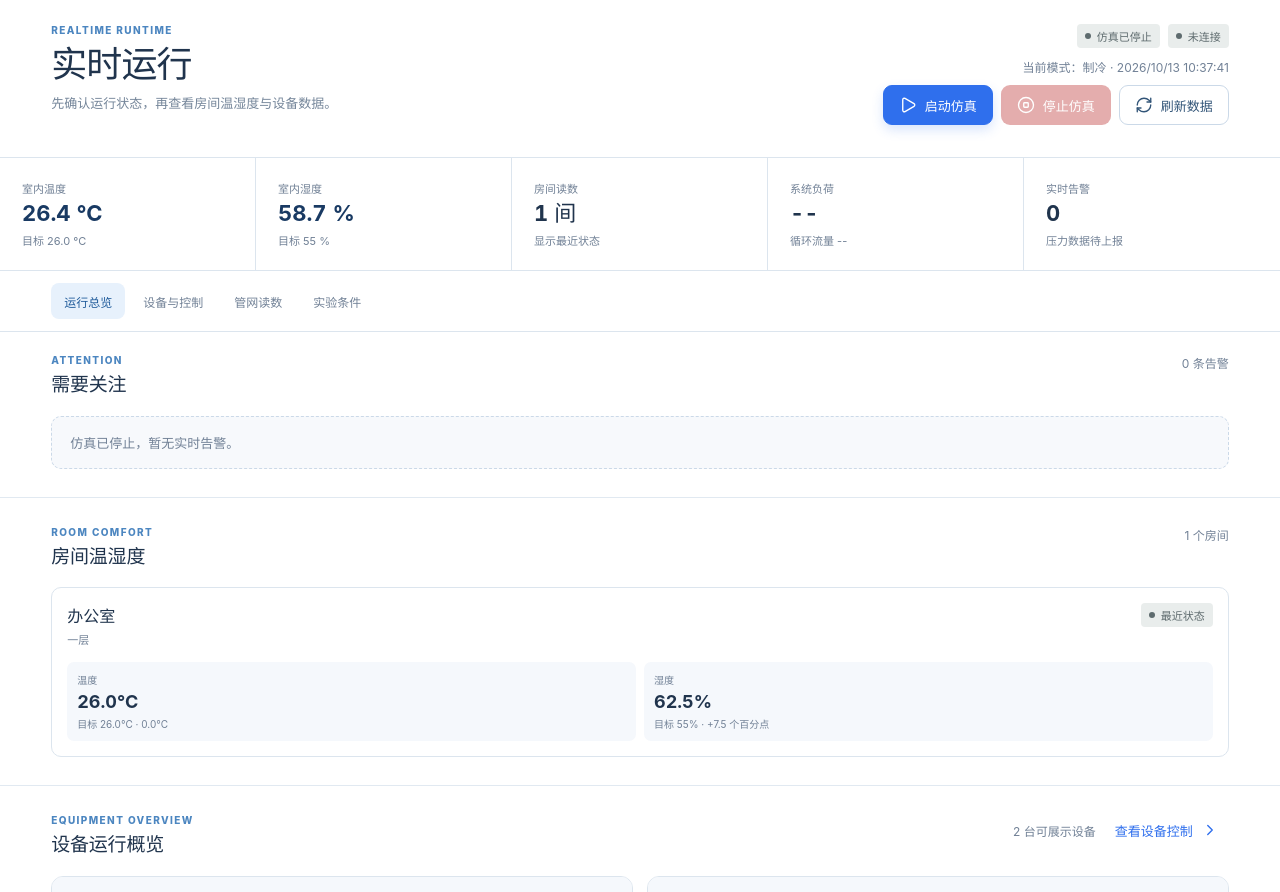
Test: runtime device controls › masks non-finite runtime values in the property panel
Click the tab with id "runtime-tab-devices": click(173, 301) [130,283,216,319]
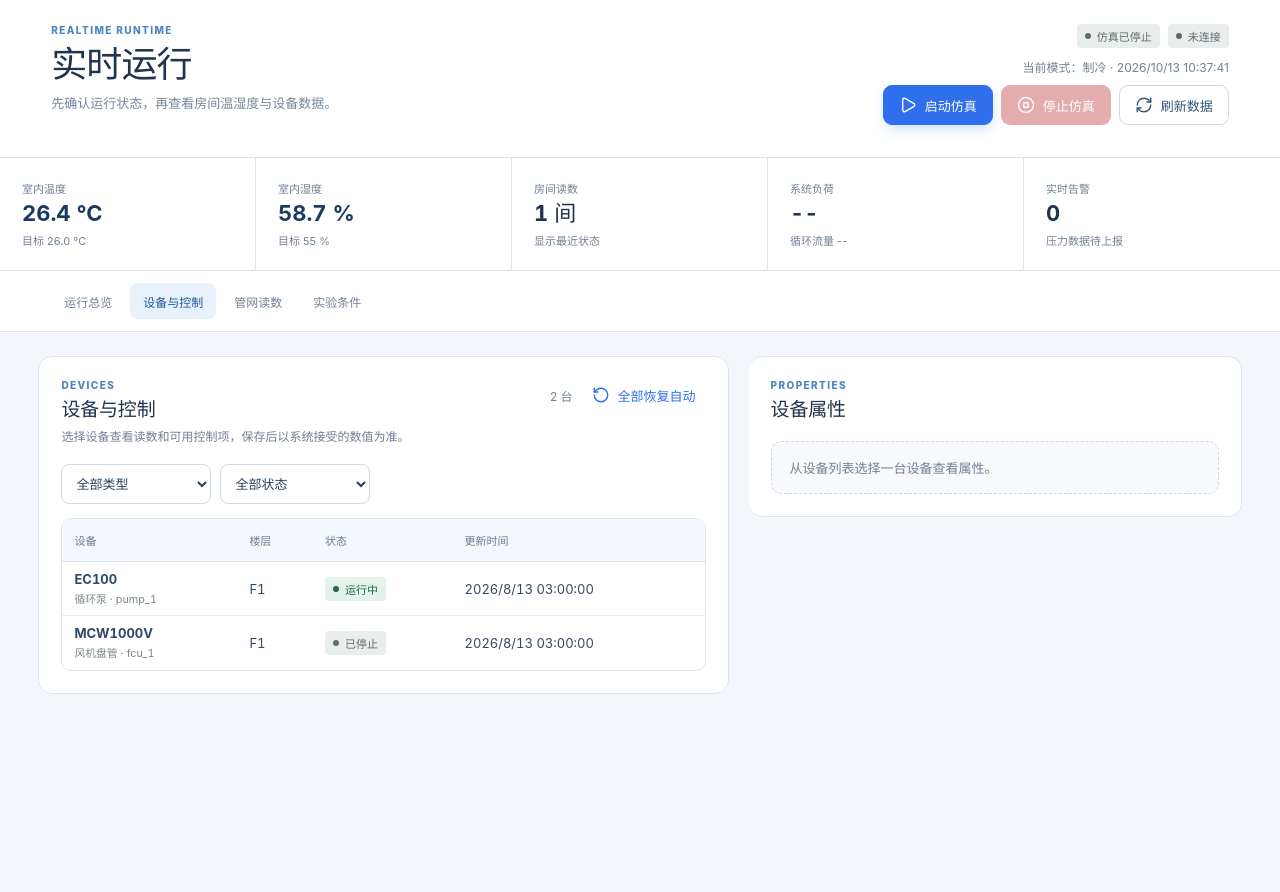
Expected: the row "EC100 循环泵 · pump_1 F1 运行中 2026/8/13 03:00:00" is shown
Click the row "EC100 循环泵 · pump_1 F1 运行中 2026/8/13 03:00:00": click(384, 589) [62,562,705,616]
(page scrolled)
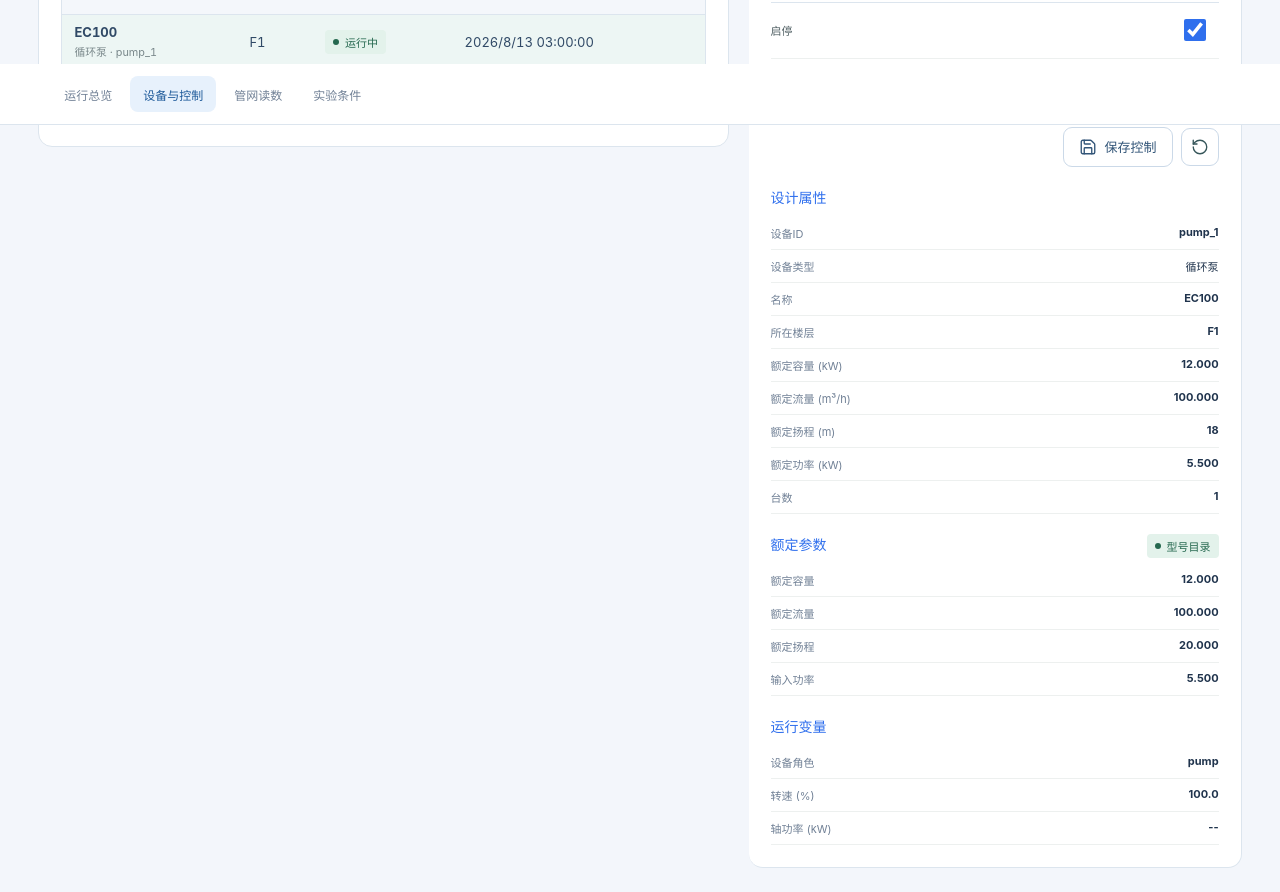
Expected: the text "--" is shown, [995,812,1219,845]
Expected: the element showing "运行变量 设备角色 pump 转速 (%) 100.0 轴功率 (kW) --" is shown, [771,716,1219,845]
Expected: the text "100.000" next to "额定流量 (m³/h)" is shown, [1174,390,1219,404]
